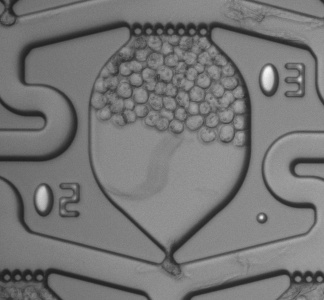AptNum: (250, 58, 312, 103)
Marker: (249, 205, 279, 232)
StNum: (27, 176, 89, 226)
Trap: (148, 255, 192, 300)
